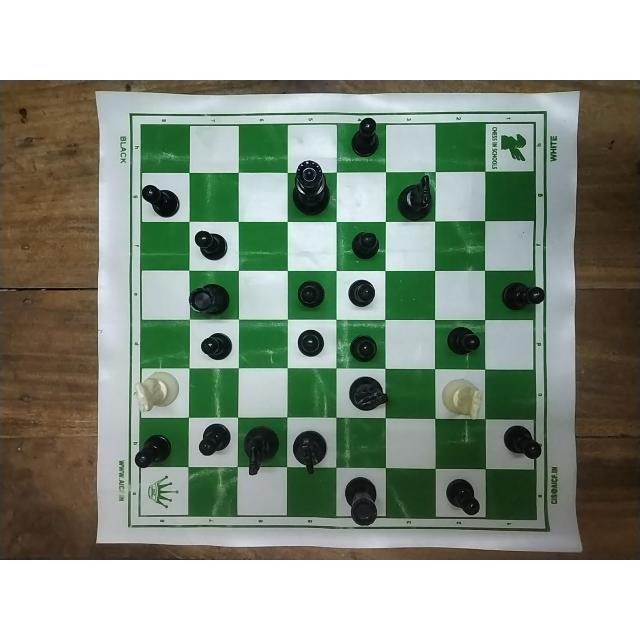black-knight: (240, 422, 282, 479), (293, 418, 333, 474), (346, 371, 393, 411), (396, 173, 435, 221)
black-pawn: (499, 424, 547, 464), (442, 476, 485, 520), (495, 279, 549, 313), (132, 433, 175, 471), (139, 183, 181, 220), (347, 116, 381, 160), (193, 228, 233, 265), (195, 420, 231, 460), (345, 328, 381, 364), (344, 228, 380, 263), (196, 331, 236, 362), (443, 324, 479, 356), (297, 325, 327, 358), (350, 277, 378, 310), (297, 279, 325, 311)
black-queen: (290, 157, 339, 217)
black-rook: (339, 472, 385, 528), (187, 281, 235, 317)
white-knight: (434, 369, 482, 422), (131, 366, 185, 412)
